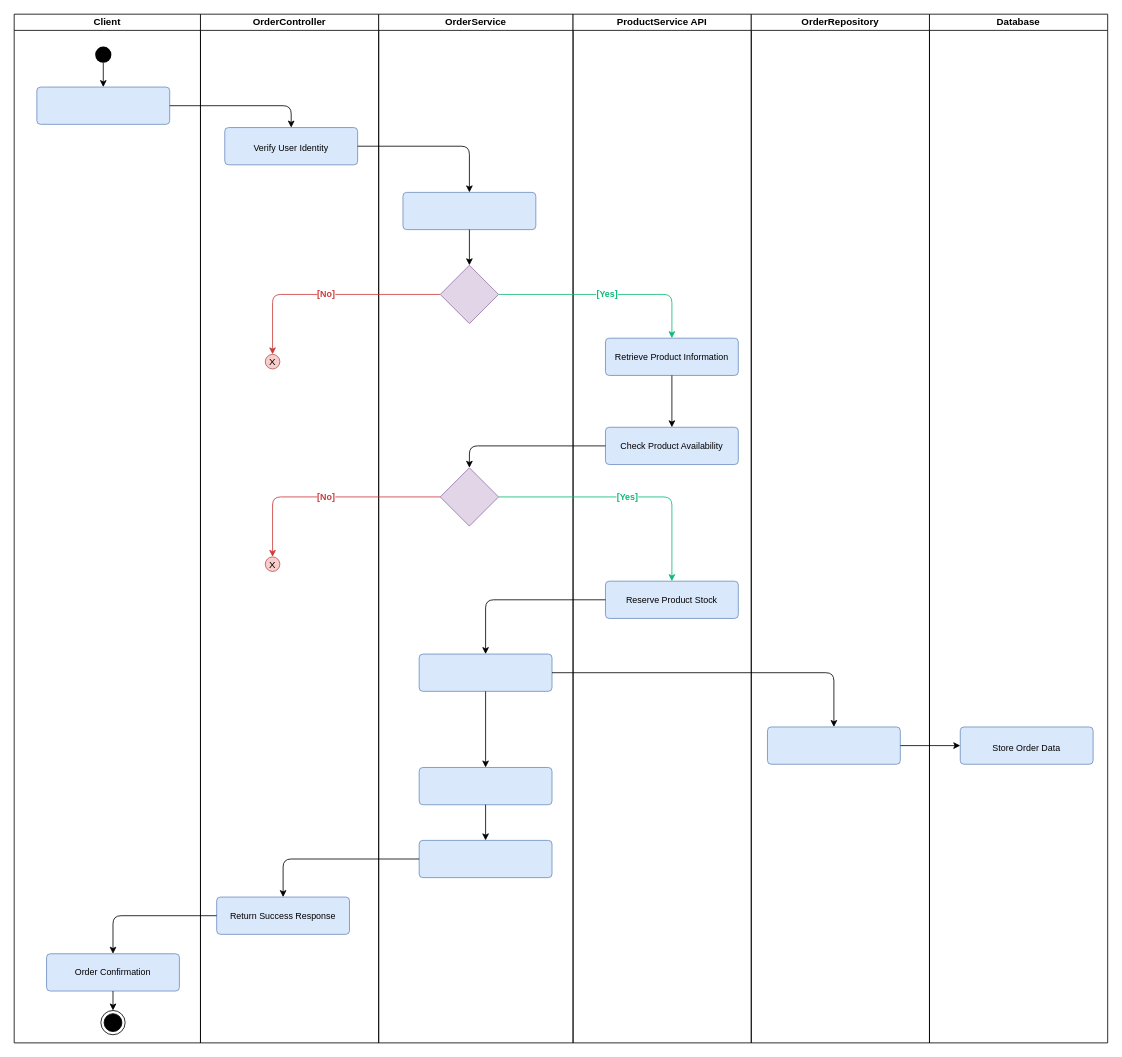
The diagram is 1122 pixels wide and 1057 high, and some of its shapes have lost their labels. Here are the shapes that lost their labels. From the top down, the centre of each, then its label:
the point at 103,105: Create Order Request
the point at 469,211: Validate Order Details
the point at 469,294: Request valid?
the point at 469,496: Is Product Available?
the point at 485,672: Prepare Order Information
the point at 833,745: Save Order
the point at 485,786: Notify Other Services
the point at 485,859: Generate Order Summary
